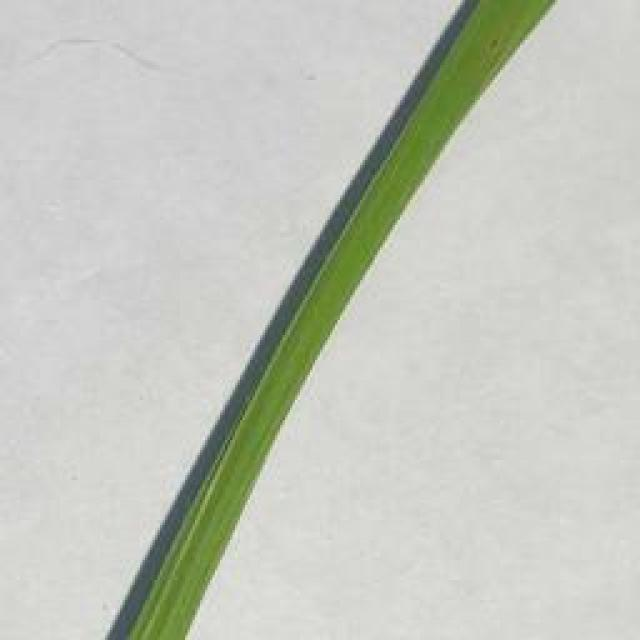Brown_Spot: (479, 22, 507, 62)
